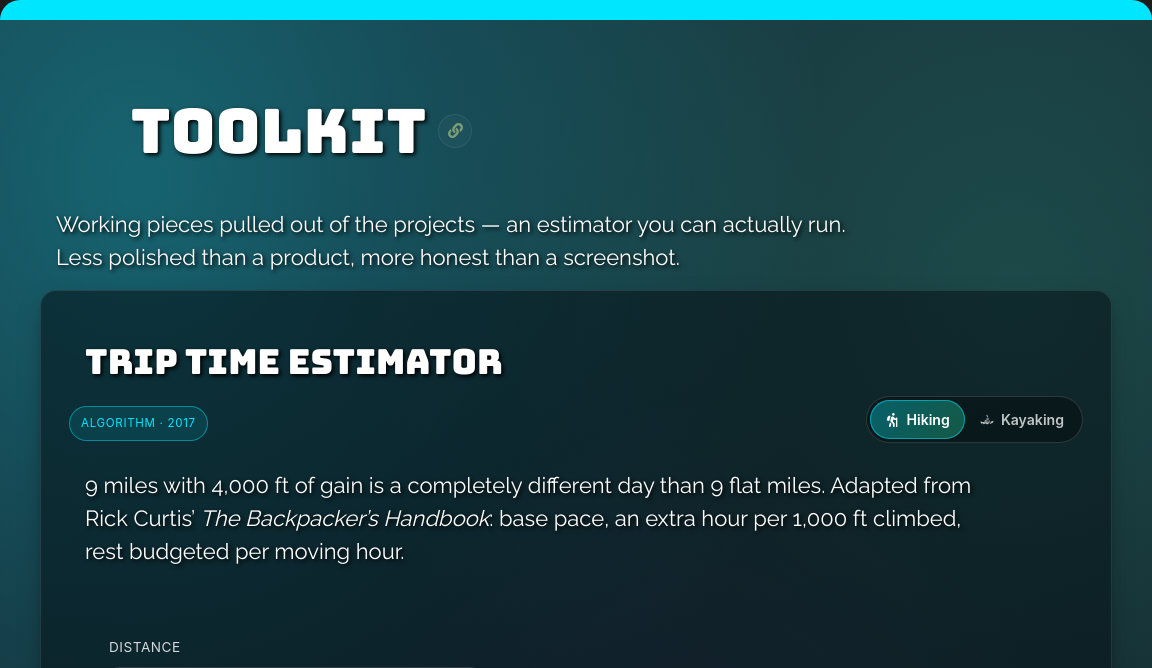
Test: Toolkit kayaking mode › works in nautical miles and knots, reporting speed made good
This screenshot has width=1152, height=668.
Click the button with class "toolkit-mode-btn" showing "Kayaking": (1022, 420) [965,400,1079,439]
(page scrolled)
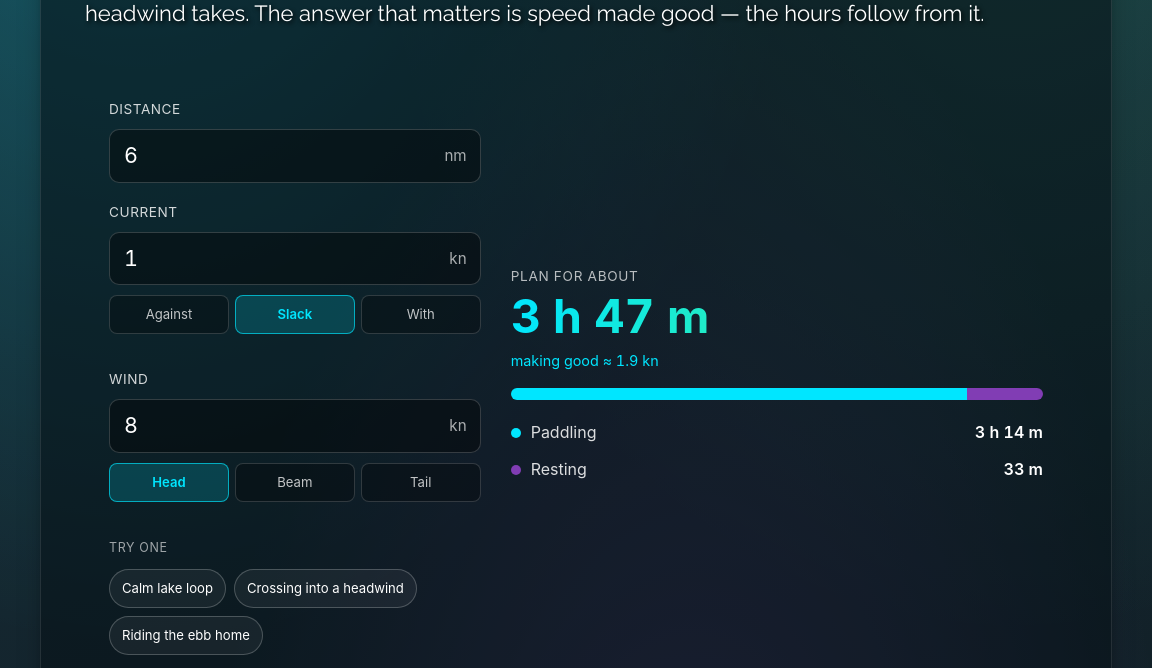
Check: the text with class "toolkit-speed" shows "1.9 kn", box [511,352,659,369]
